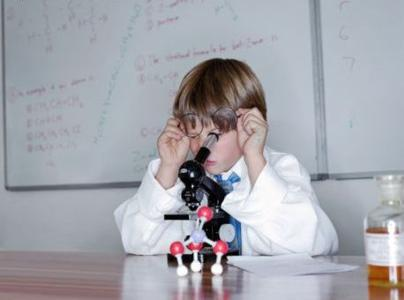person: (116, 58, 340, 259)
